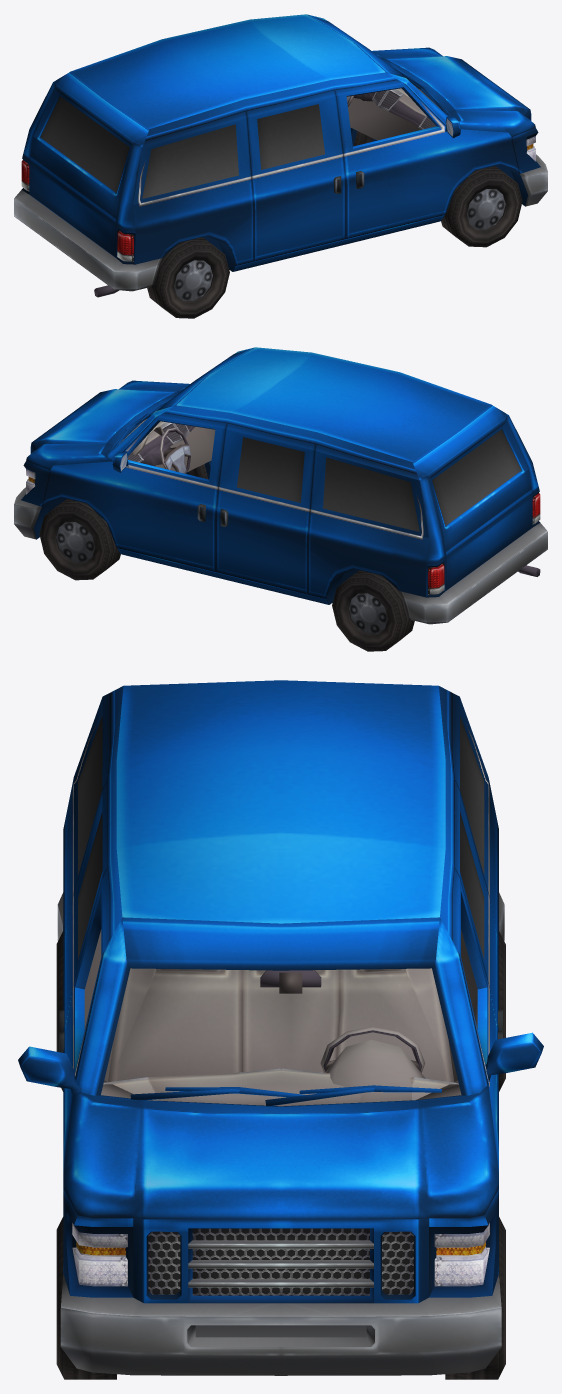
The model's file is JianKongJieDao_01_lanseqiche_01.FBX.
The picture shows the model from 3 angles, top to bottom: view 1: azimuth 30°, elevation 25°; view 2: azimuth 150°, elevation 25°; view 3: azimuth 270°, elevation 25°; orthographic projection. The views are drawn at different scales.
Visible parts, largest first — view 1: JianKongJieDao_01_lanseqiche_01; view 2: JianKongJieDao_01_lanseqiche_01; view 3: JianKongJieDao_01_lanseqiche_01.
Boxes of the visible parts, x1,y1,x2,y2 form: JianKongJieDao_01_lanseqiche_01: [14, 14, 547, 318]; JianKongJieDao_01_lanseqiche_01: [14, 347, 547, 651]; JianKongJieDao_01_lanseqiche_01: [18, 680, 543, 1379].
Size of the model in its own units: 1080 by 462 by 557.
